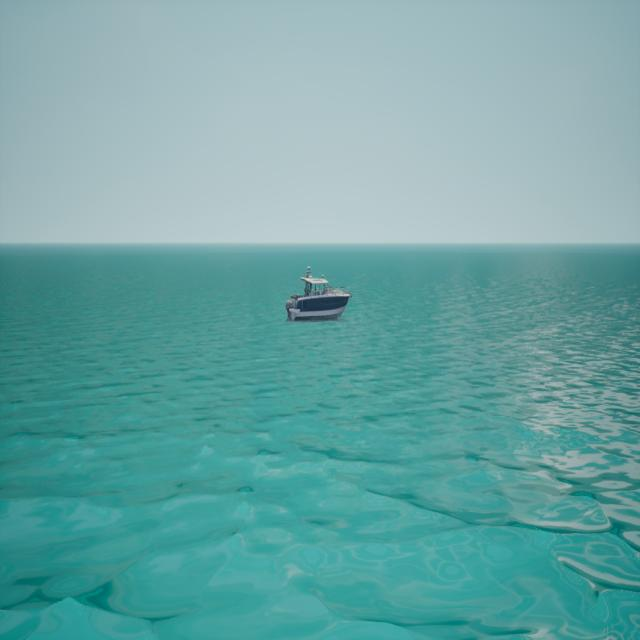ship: (284, 264, 353, 322)
